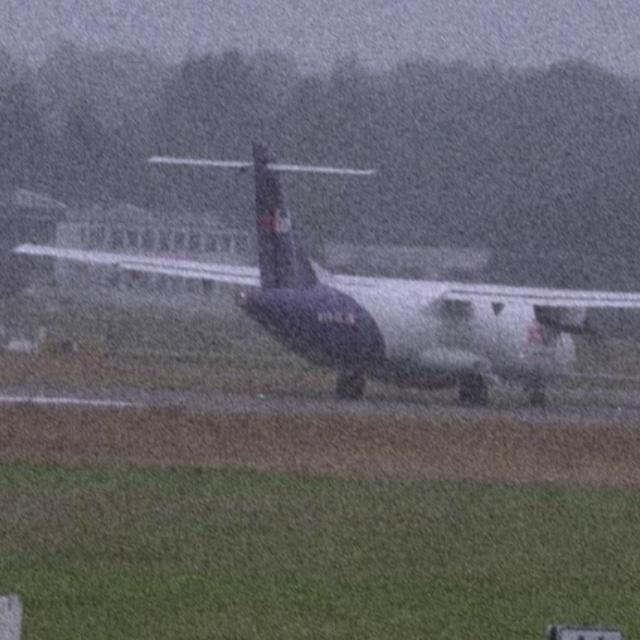airplane: (14, 134, 640, 413)
